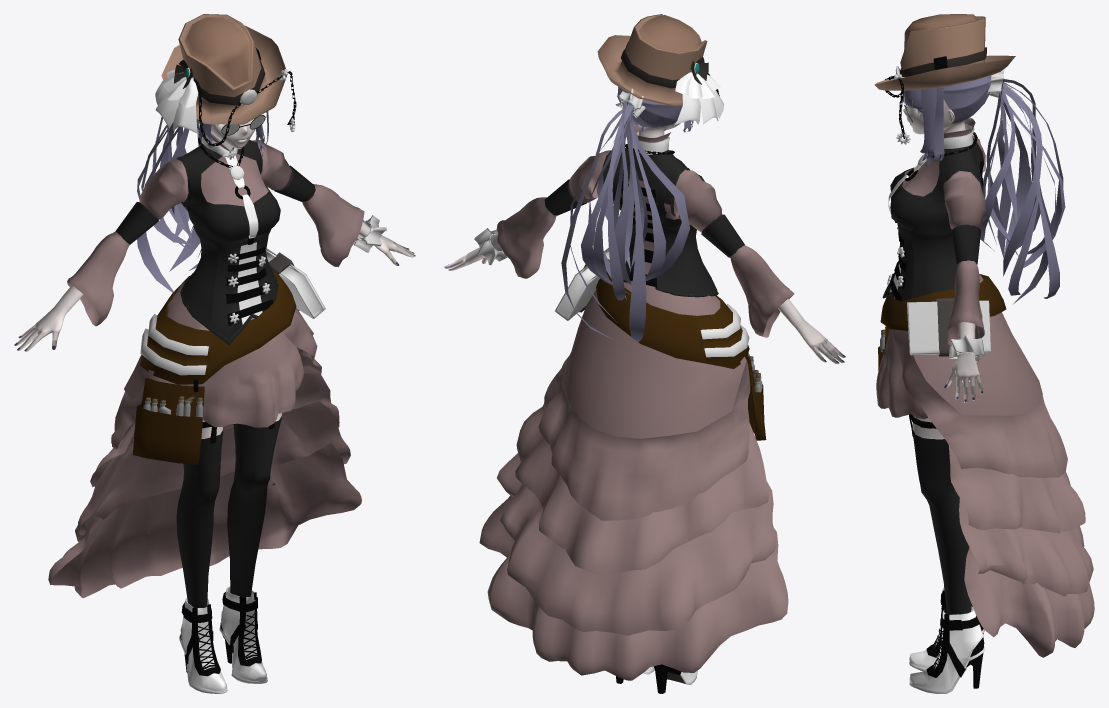
The picture shows the model from 3 angles, left to right: view 1: azimuth 30°, elevation 25°; view 2: azimuth 150°, elevation 25°; view 3: azimuth 270°, elevation 25°; orthographic projection.
Visible parts, largest first — view 1: character_copy; view 2: character_copy; view 3: character_copy.
Part boxes in pixels (bbox=[...]): character_copy: bbox=[14, 14, 415, 693]; character_copy: bbox=[444, 14, 845, 693]; character_copy: bbox=[874, 14, 1094, 693].
Size of the model in its own units: 101 by 160 by 48.37.
5 materials, 5 textured.
